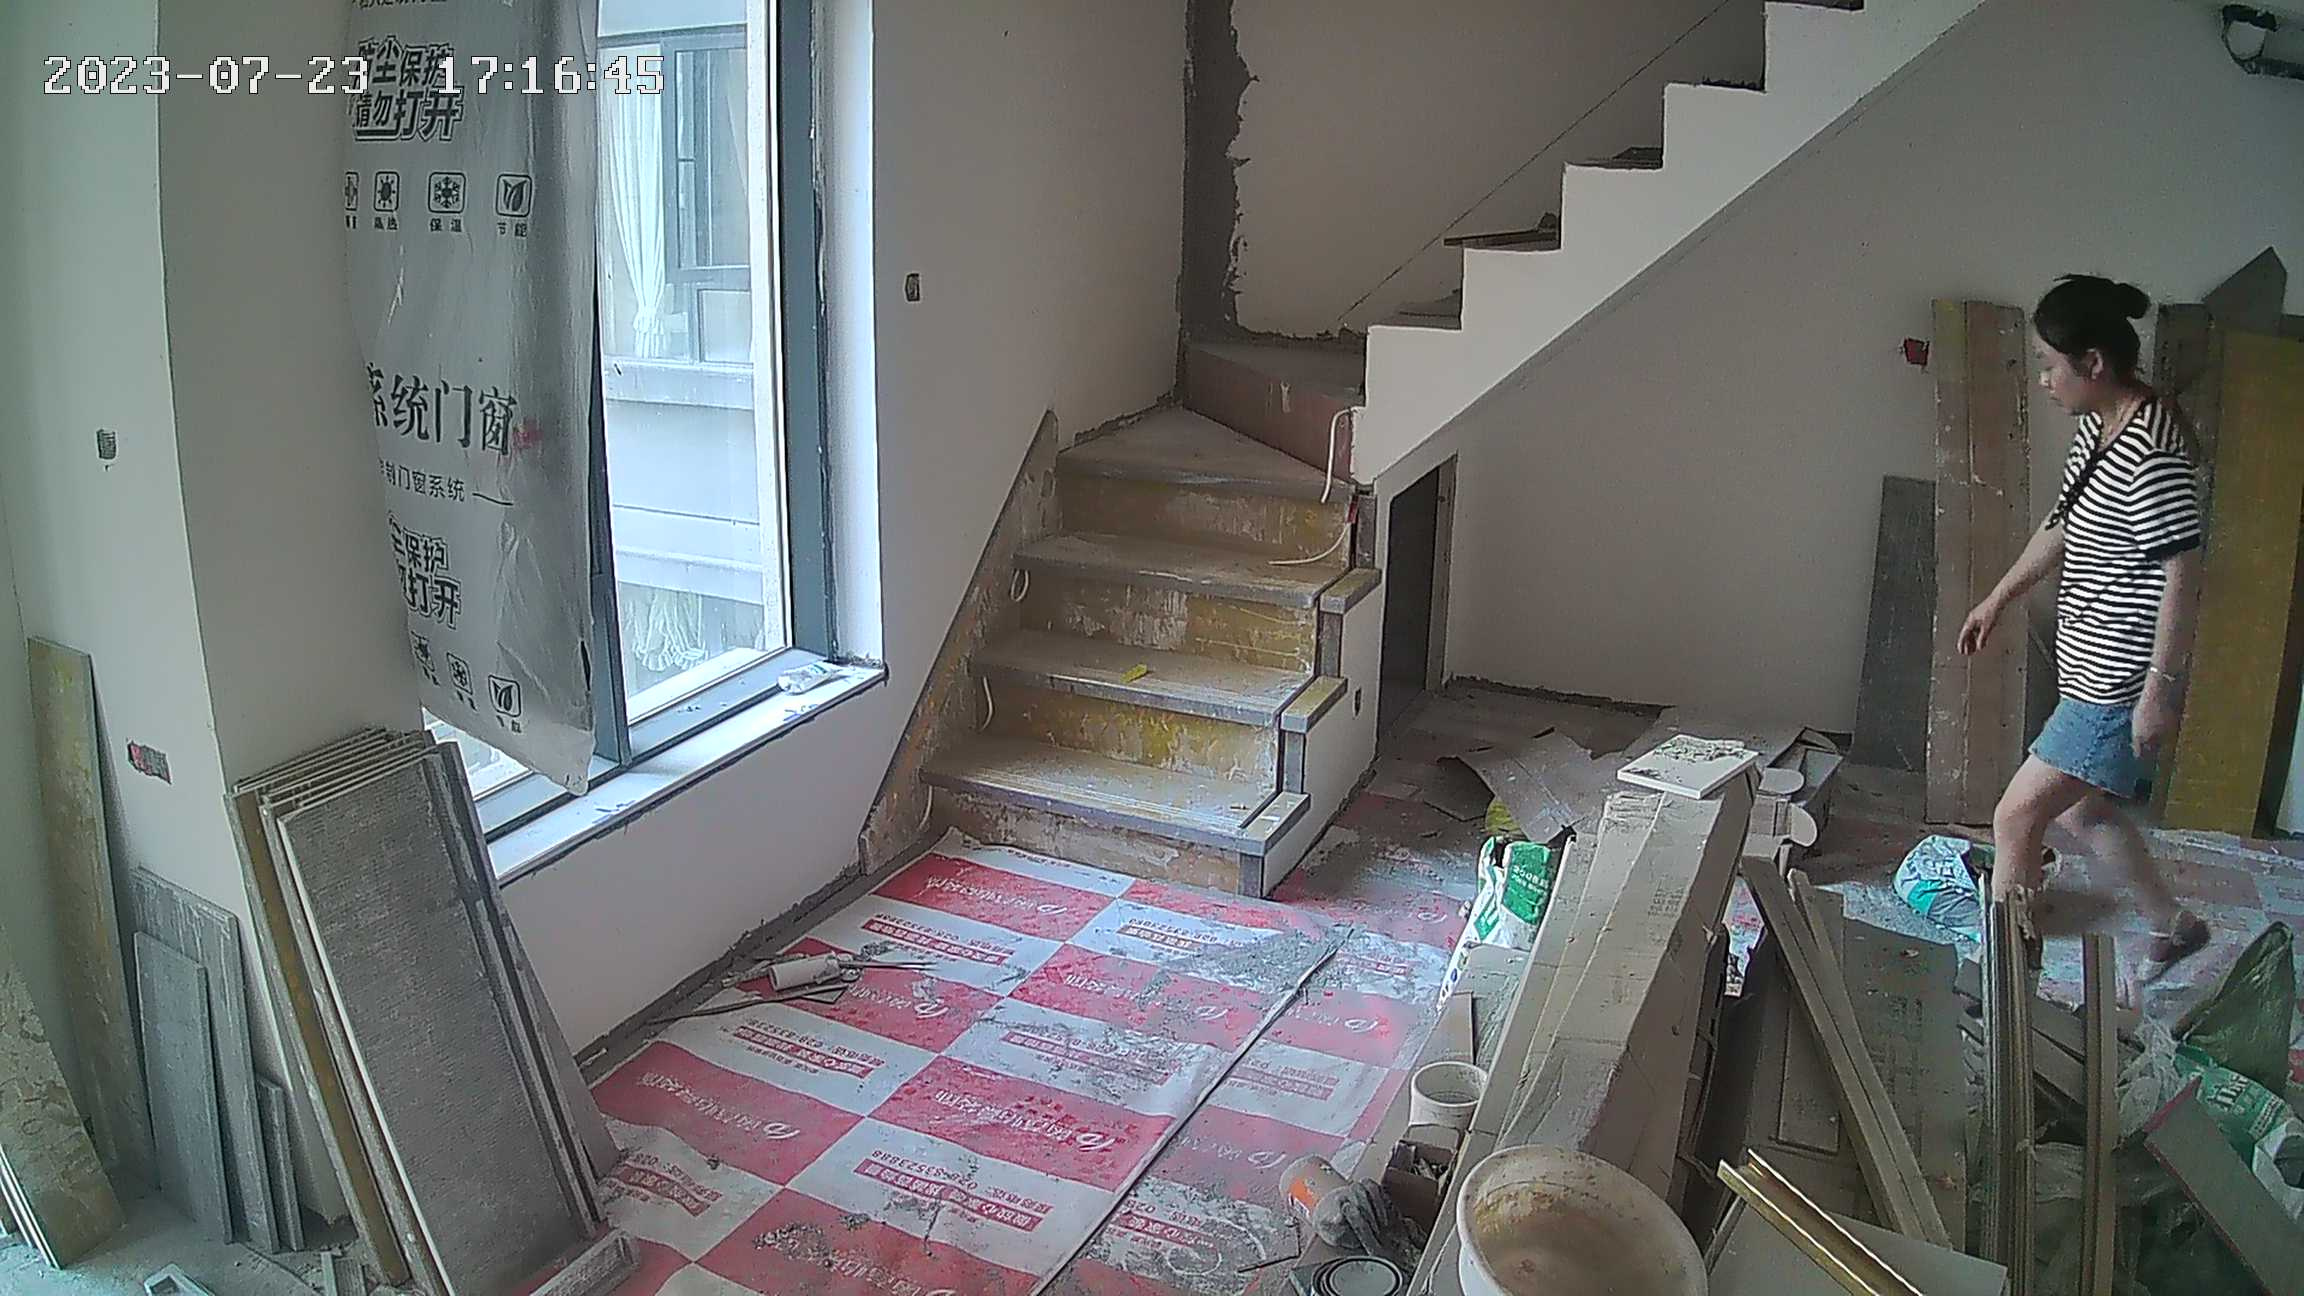people: (1958, 279, 2230, 982)
window: (562, 11, 824, 726)
